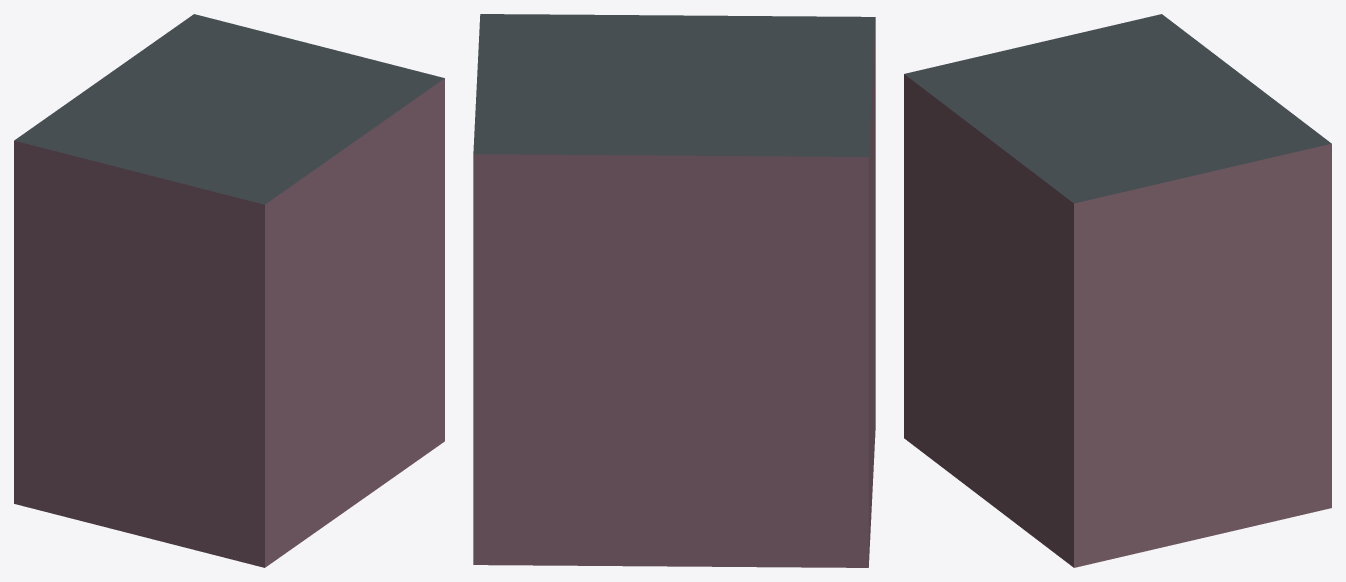
File: nyc-1034202-0.glb
3 renders of one model, left to right at view 1: azimuth 30°, elevation 25°; view 2: azimuth 150°, elevation 25°; view 3: azimuth 270°, elevation 25°, orthographic. The views are drawn at different scales.
Parts seen in each view (by area): view 1: nyc-1034202-0; view 2: nyc-1034202-0; view 3: nyc-1034202-0.
Part boxes in pixels (<box>): nyc-1034202-0: <box>14,14,444,567</box>; nyc-1034202-0: <box>473,14,875,567</box>; nyc-1034202-0: <box>904,14,1331,567</box>.
Bounding box in the file's own units: 93.12 × 83.47 × 88.8.
